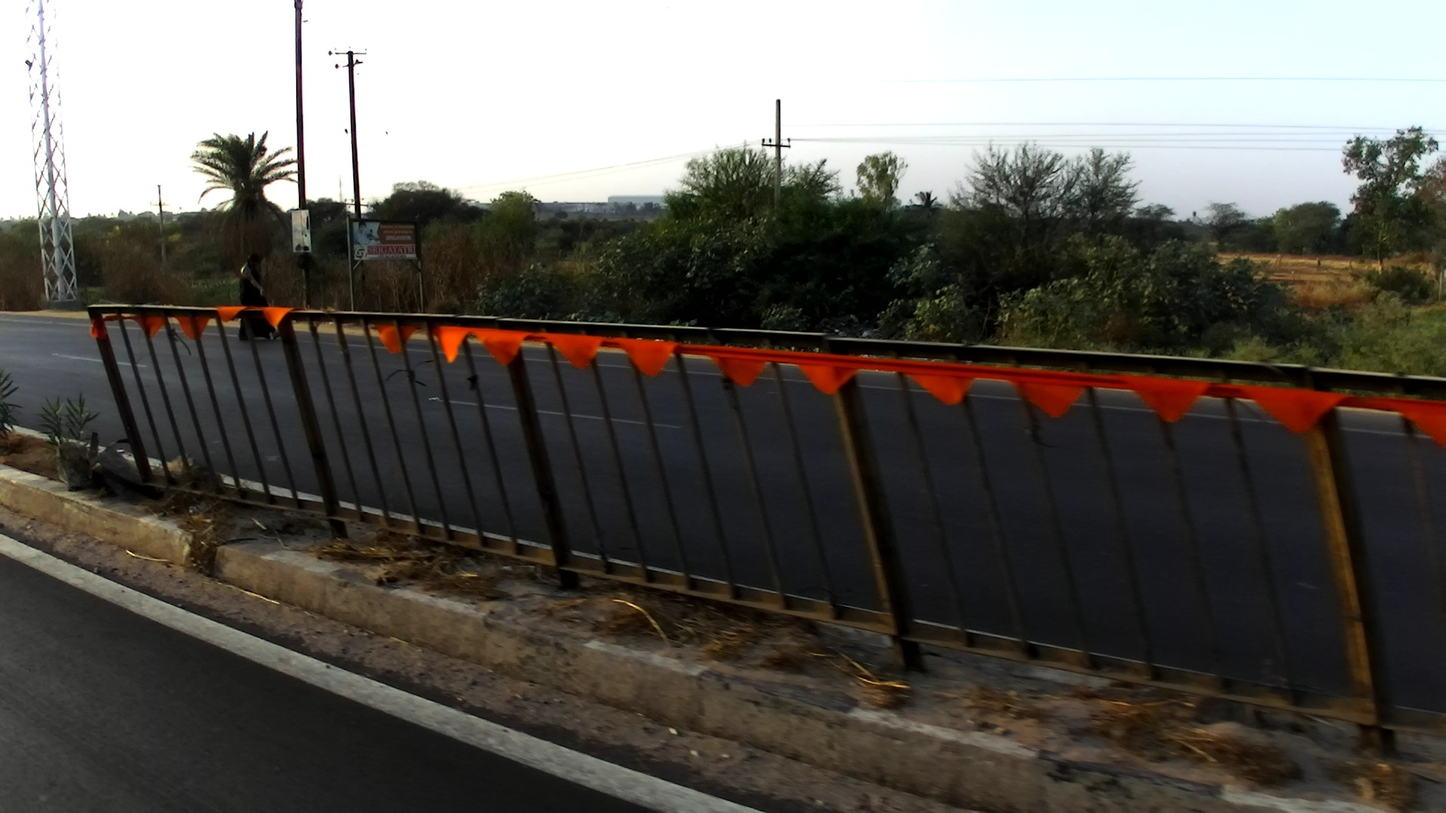person: (233, 253, 281, 343)
